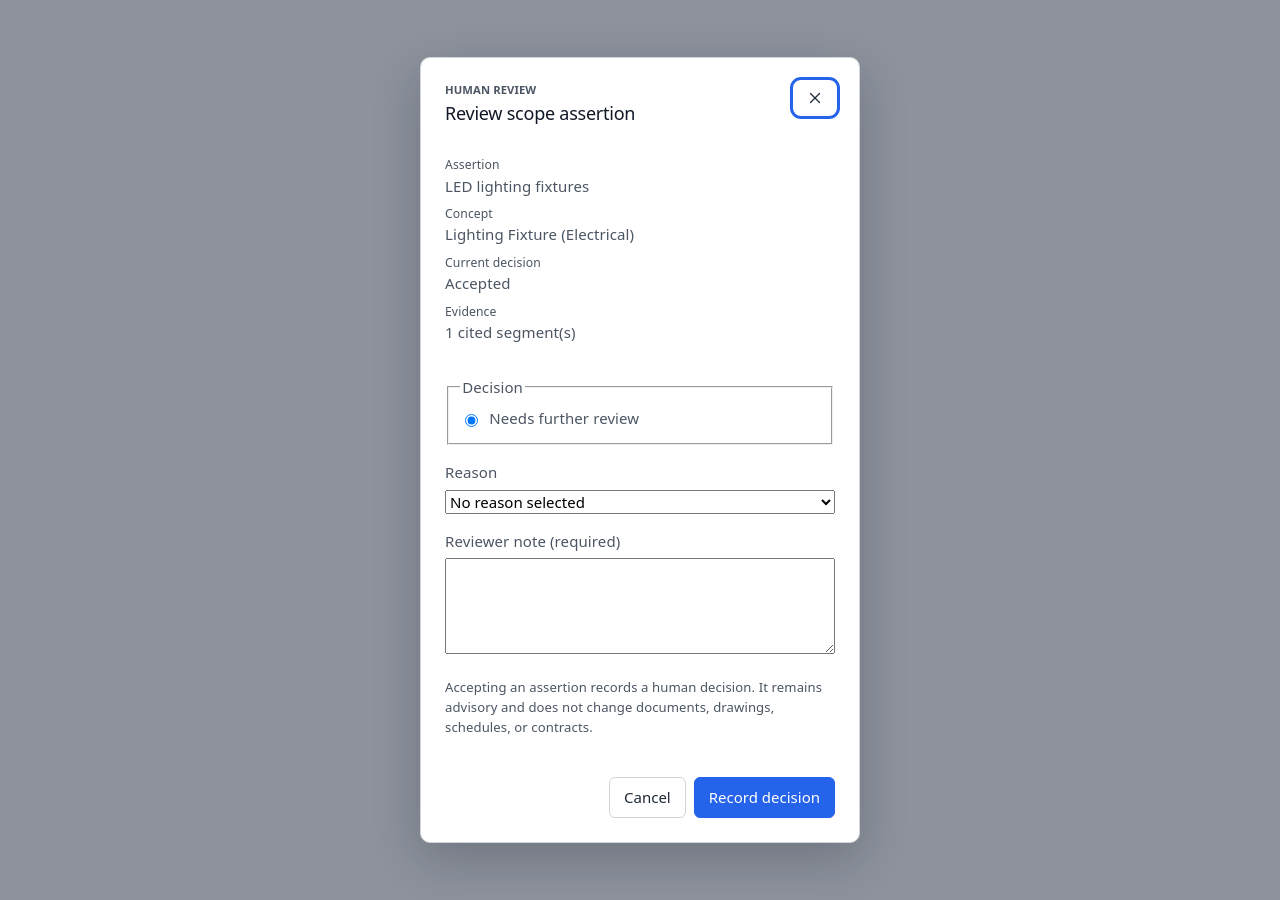
Test: ReviewAssertionDialog › requires a note when reversing a settled decision
The width and height of the screenshot is (1280, 900).
Click the button "Record decision" at (764, 797), box left=694, top=777, right=835, bottom=818
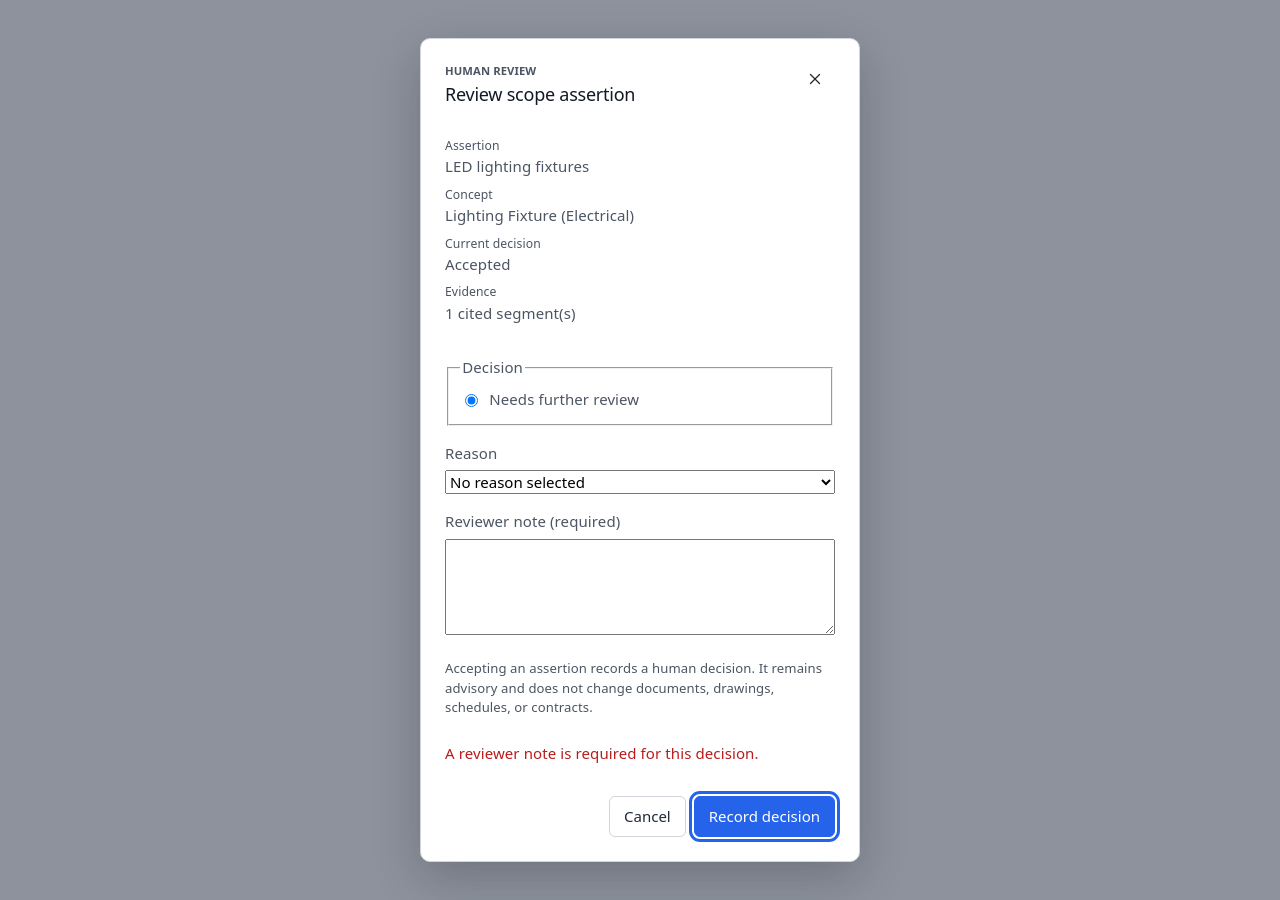
Expected: the message shows "note is required", left=445, top=743, right=759, bottom=763
